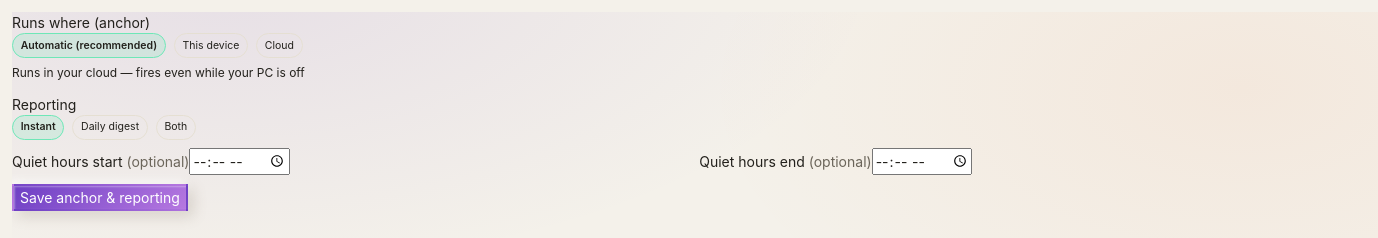
RoutineAnchorSection › explicit "This device" choice overrides the cloud default
Check: the text "Runs in your cloud — fires even while your PC is off" is shown, box [12,65,305,80]
Click the radio button labelled "This device".
click(211, 45)  # box [174,33,248,58]
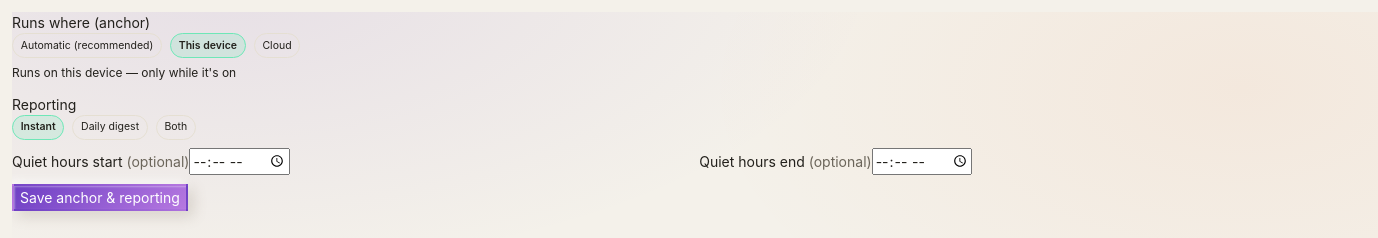
Check: the text "Runs on this device — only while it's on" is shown, box [12,65,236,80]
